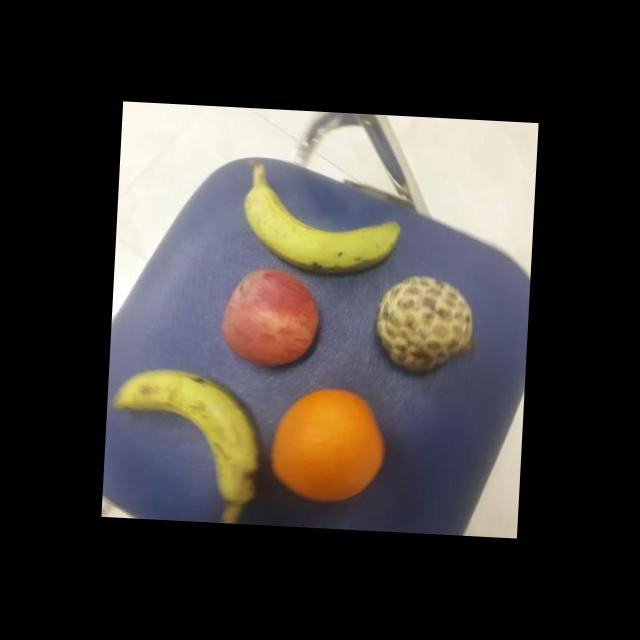Sakya fruit: (373, 271, 481, 378)
apple: (217, 264, 324, 371)
banana: (109, 364, 268, 506), (240, 172, 406, 278)
orange: (264, 382, 390, 507)
